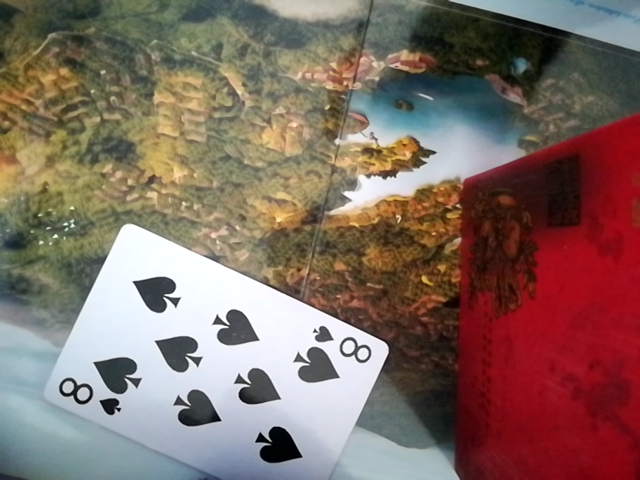ht 8: (38, 225, 396, 479)
